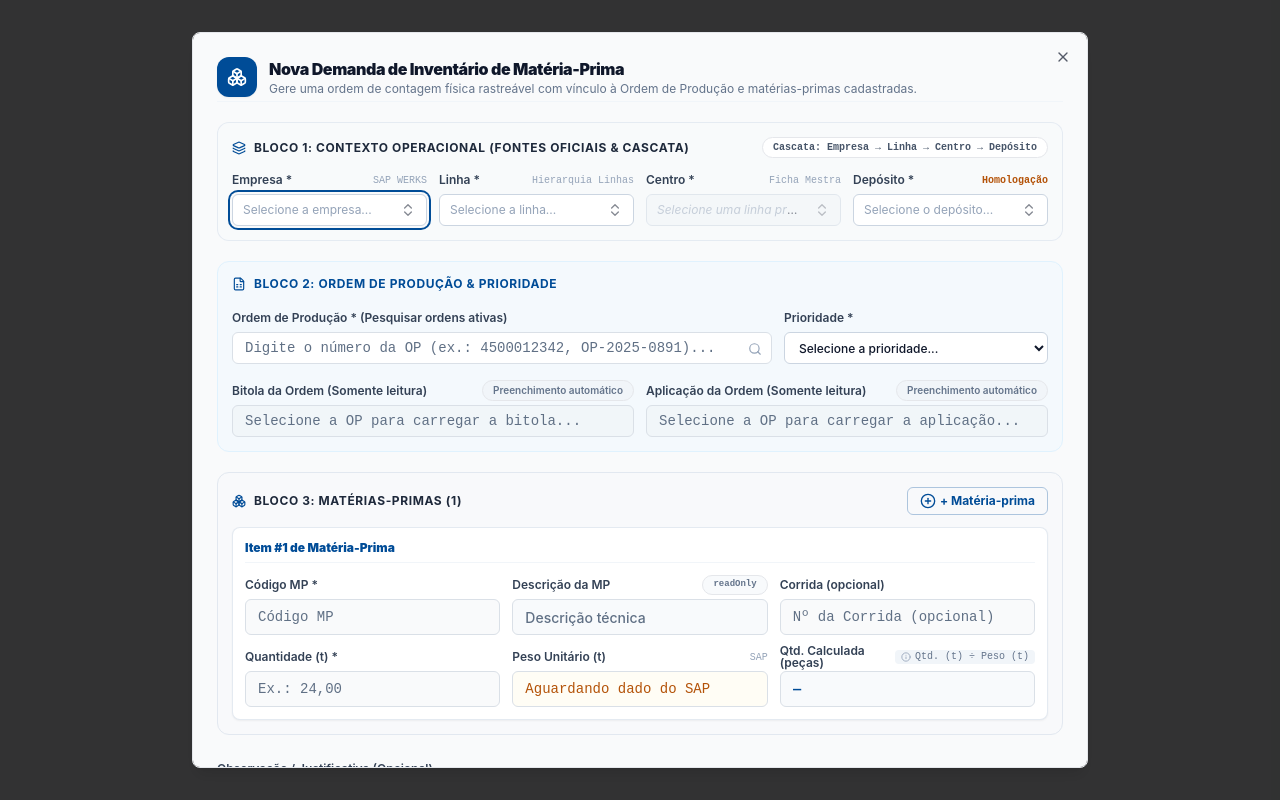
Inventário de Matéria-Prima — Depósito Controlado Provisório (Regras de Produto & Aceite) › Combobox de Depósito está habilitado mesmo sem selecionar Empresa previamente
// Clica no trigger de Depósito mesmo sem empresa selecionada
Click the dropdown with test id "select-deposito-trigger" at (950, 210), box [853,194,1048,226]
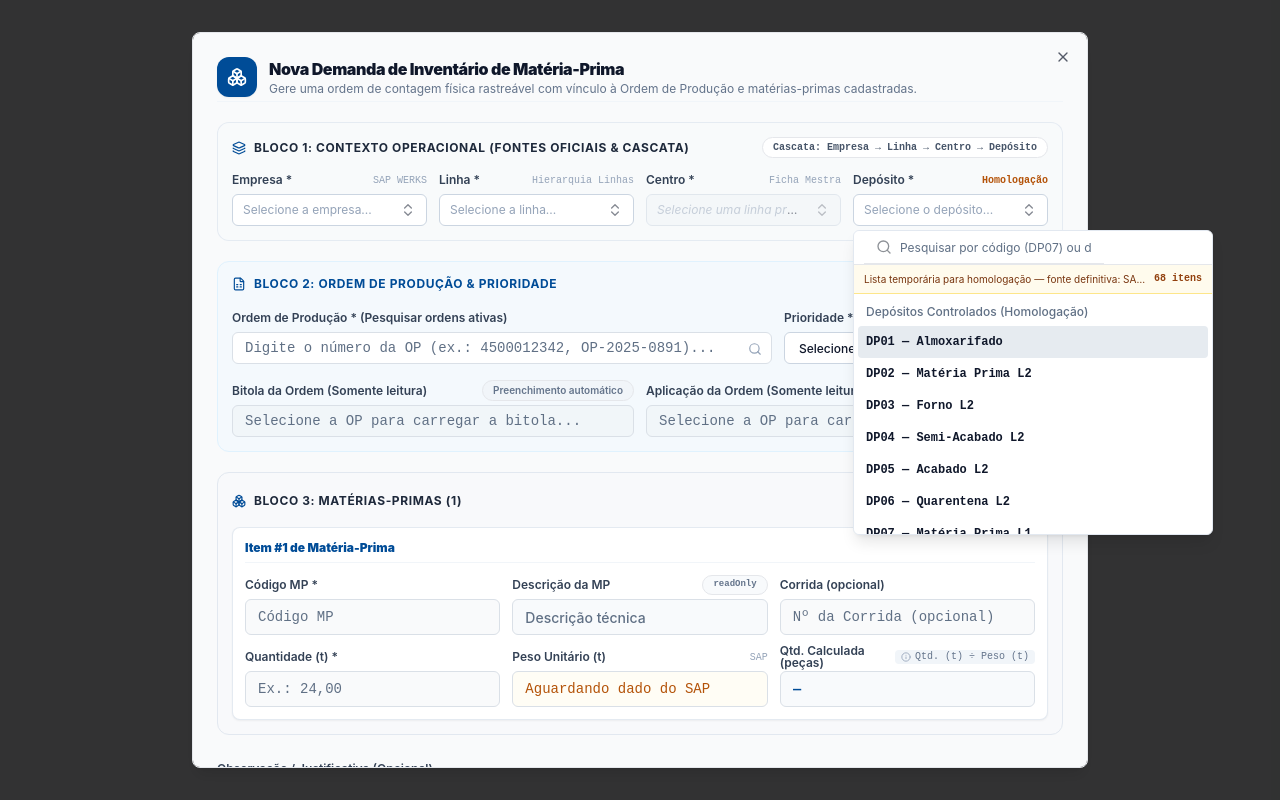
Now the element with test id "sap-deposito-provisional-hint" is shown, box [854,265,1212,294]
Now the text "68 itens" is shown, box [1154,271,1202,287]
